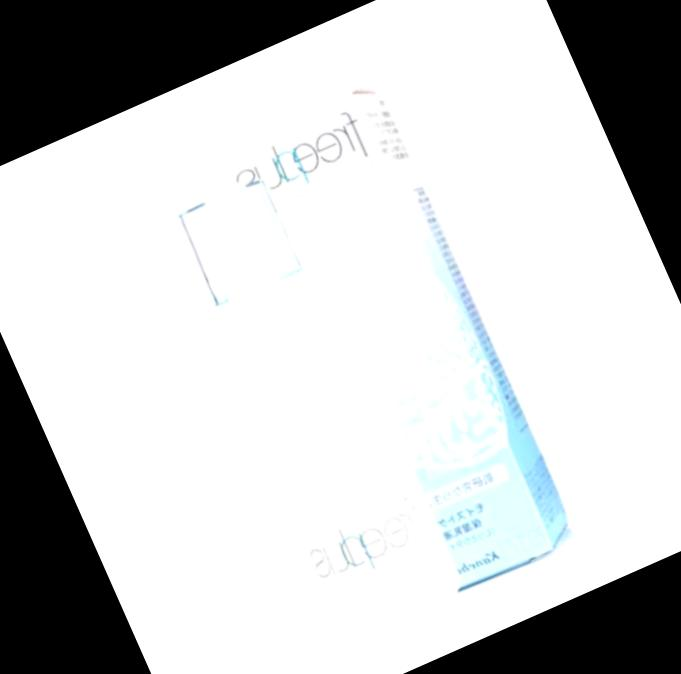cosmetic: (152, 164, 471, 650)
